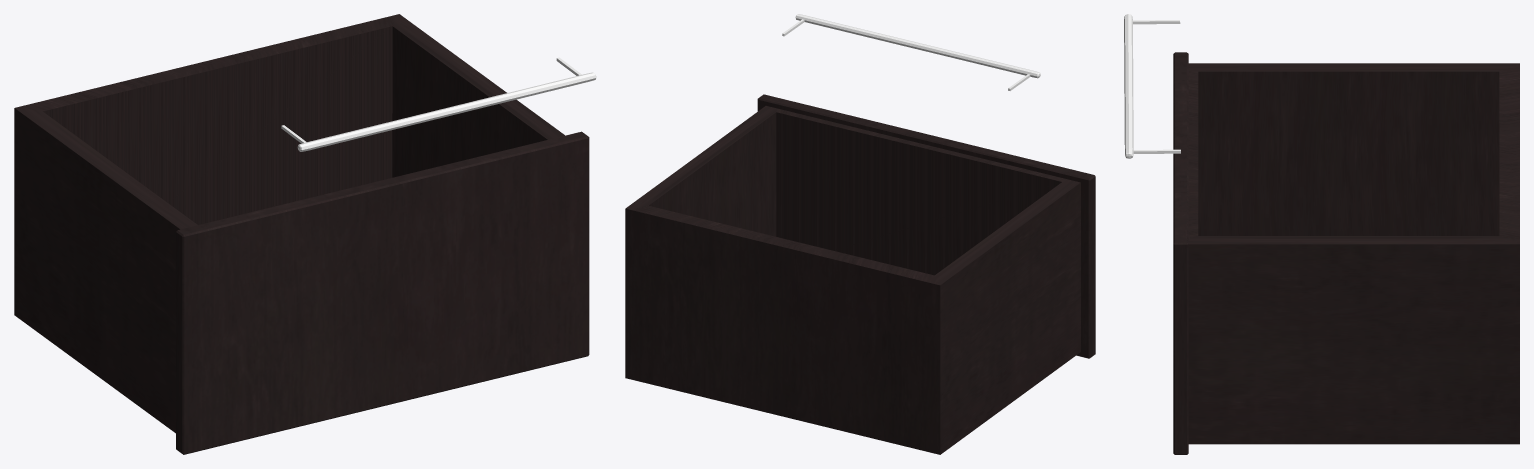
The model's file is Drawer_44d719df.obj.
3 renders of one model, left to right at view 1: azimuth 30°, elevation 25°; view 2: azimuth 150°, elevation 25°; view 3: azimuth 270°, elevation 25°, orthographic. The views are drawn at different scales.
Parts seen in each view (by area): view 1: DrawerMesh_01_00d7d42b, CabineDoorHandle_01_fc79d290; view 2: DrawerMesh_01_00d7d42b, CabineDoorHandle_01_fc79d290; view 3: DrawerMesh_01_00d7d42b, CabineDoorHandle_01_fc79d290.
Boxes of the visible parts, bbox=[...] form: DrawerMesh_01_00d7d42b: bbox=[14, 14, 589, 454]; CabineDoorHandle_01_fc79d290: bbox=[281, 57, 596, 151]; DrawerMesh_01_00d7d42b: bbox=[625, 94, 1095, 454]; CabineDoorHandle_01_fc79d290: bbox=[782, 14, 1040, 90]; DrawerMesh_01_00d7d42b: bbox=[1173, 52, 1519, 454]; CabineDoorHandle_01_fc79d290: bbox=[1124, 14, 1180, 158].
Size of the model in its own units: 0.6 by 0.4299 by 0.5241.
